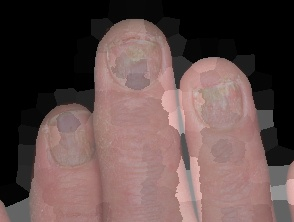Nail_psoriasis: (91, 15, 179, 117), (180, 61, 262, 145), (36, 105, 102, 180)
